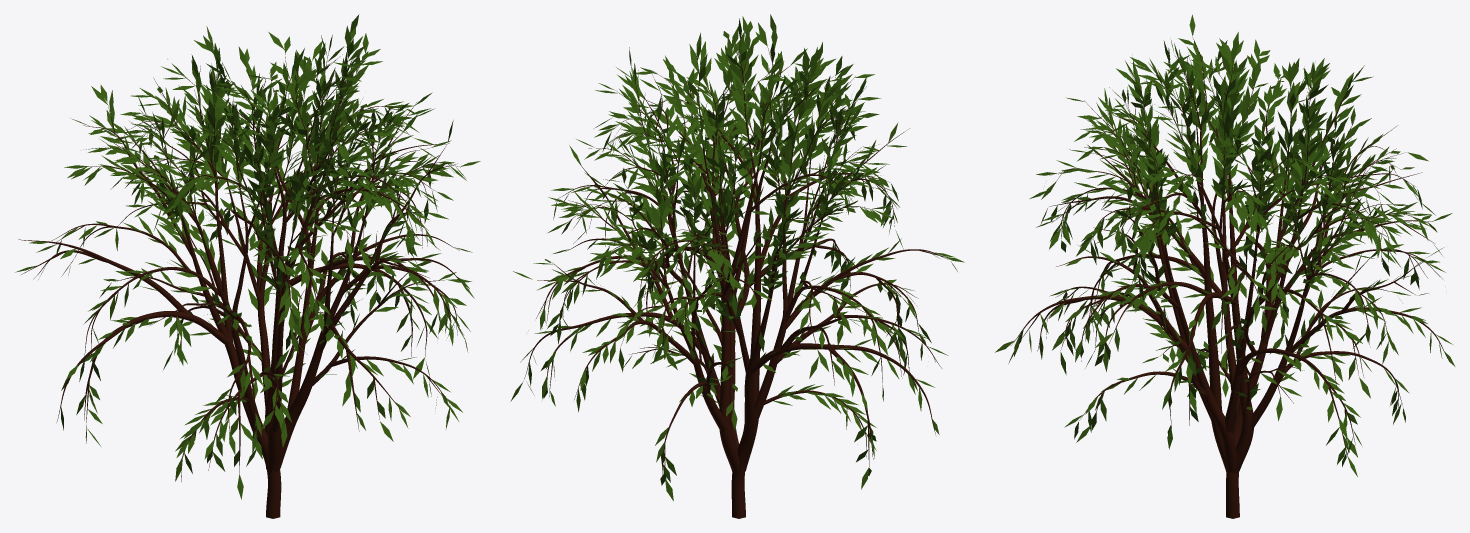
File: tree-1.fbx
3 views of the same model, side by side, from view 1: azimuth 30°, elevation 25°; view 2: azimuth 150°, elevation 25°; view 3: azimuth 270°, elevation 25° (orthographic). The views are drawn at different scales.
Visible parts, largest first — view 1: tree; view 2: tree; view 3: tree.
Part boxes in pixels (box(x1,y1,x2,y2)): tree: box(15, 14, 480, 518); tree: box(510, 14, 964, 518); tree: box(995, 14, 1455, 518).
Bounding box in the file's own units: 7.19 × 8.3 × 7.26.
